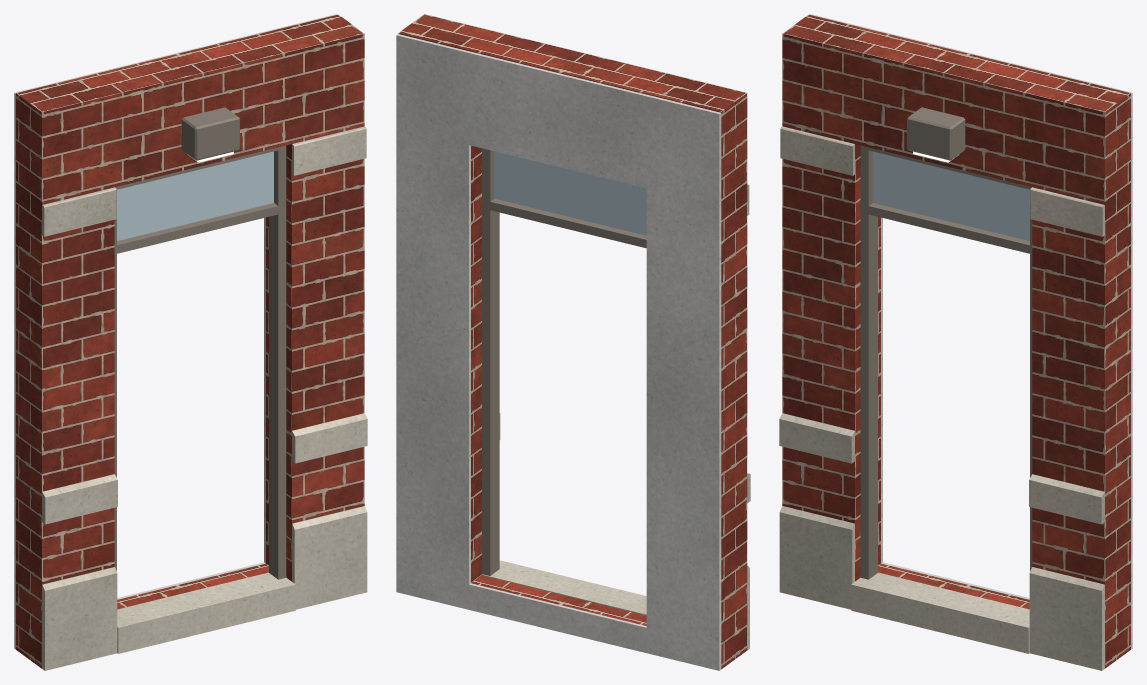
The model's file is w_g_door.glb.
The picture shows the model from 3 angles, left to right: view 1: azimuth 30°, elevation 25°; view 2: azimuth 150°, elevation 25°; view 3: azimuth 330°, elevation 25°; orthographic projection.
Visible parts, largest first — view 1: w_g_door_brick, w_g_door_precast, w_g_door_alu, w_g_door_glass, w_g_door_plaster; view 2: w_g_door_plaster, w_g_door_brick, w_g_door_alu, w_g_door_glass, w_g_door_precast; view 3: w_g_door_brick, w_g_door_precast, w_g_door_alu, w_g_door_glass, w_g_door_plaster.
Boxes of the visible parts, <box> form: w_g_door_brick: <box>16,14,364,668</box>; w_g_door_precast: <box>42,126,367,670</box>; w_g_door_alu: <box>114,107,286,579</box>; w_g_door_glass: <box>117,151,273,240</box>; w_g_door_plaster: <box>14,14,337,649</box>; w_g_door_plaster: <box>396,34,721,670</box>; w_g_door_brick: <box>398,14,747,669</box>; w_g_door_alu: <box>482,148,646,575</box>; w_g_door_glass: <box>494,151,646,235</box>; w_g_door_precast: <box>481,184,750,650</box>; w_g_door_brick: <box>782,14,1130,668</box>; w_g_door_precast: <box>779,126,1104,670</box>; w_g_door_alu: <box>860,107,1032,579</box>; w_g_door_glass: <box>873,151,1029,240</box>; w_g_door_plaster: <box>809,14,1132,649</box>.
Bounding box in the file's own units: 2 × 3.3 × 0.46.
Materials: 6 (3 with a texture image).
